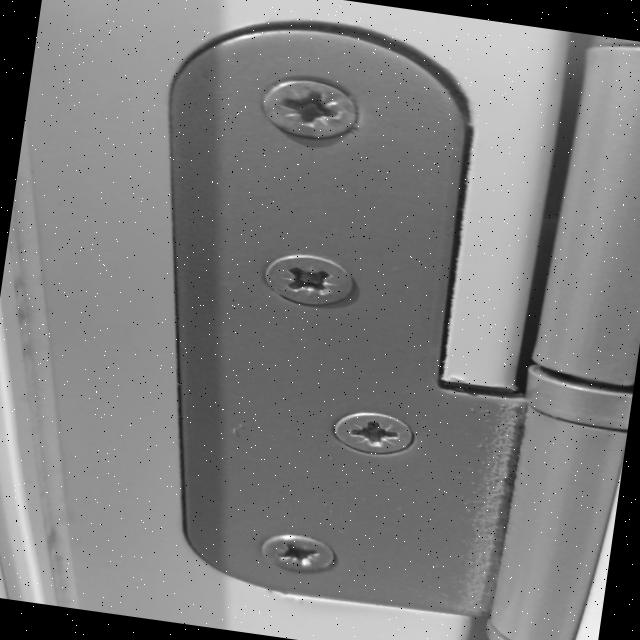Pozidriv: (247, 68, 372, 152), (250, 248, 358, 312), (321, 404, 422, 464), (252, 524, 338, 578)
